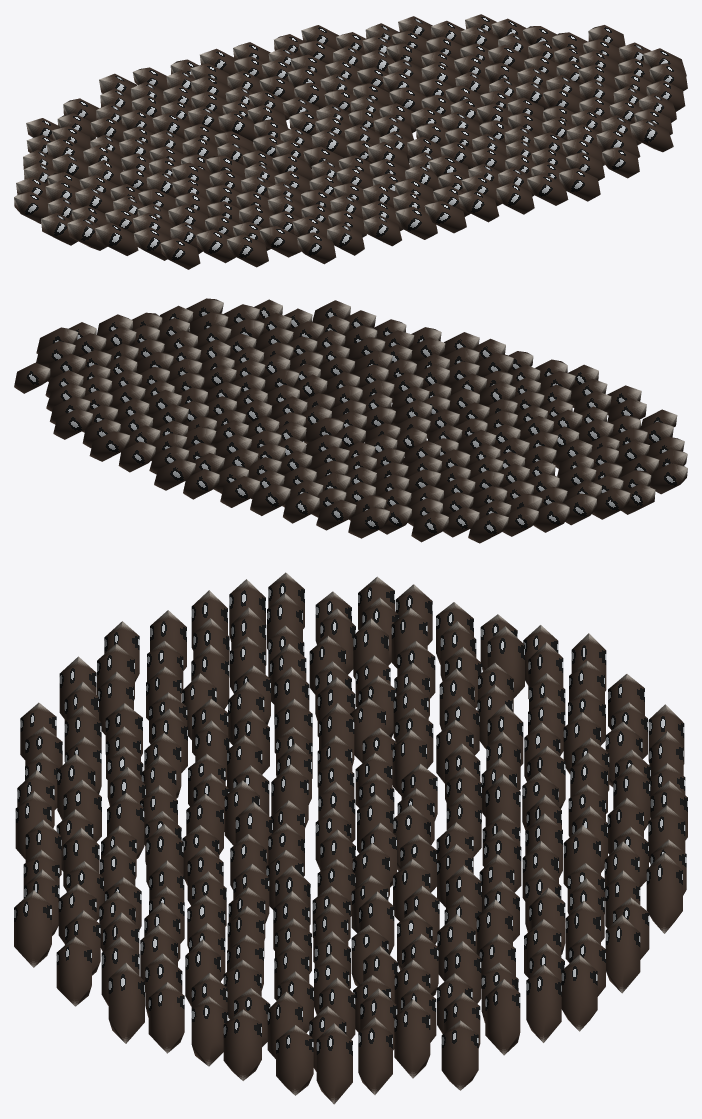
The model's file is brood_clown_eggs_eyed.glb.
The picture shows the model from 3 angles, top to bottom: view 1: azimuth 30°, elevation 25°; view 2: azimuth 150°, elevation 25°; view 3: azimuth 270°, elevation 25°; orthographic projection. The views are drawn at different scales.
Visible parts, largest first — view 1: Body; view 2: Body; view 3: Body.
Boxes of the visible parts, x1,y1,x2,y2 form: Body: (14,14,687,269); Body: (14,298,687,543); Body: (14,572,687,1104).
Bounding box in the file's own units: 0.9851 × 0.0515 × 0.5767.
1 material, 1 textured.
